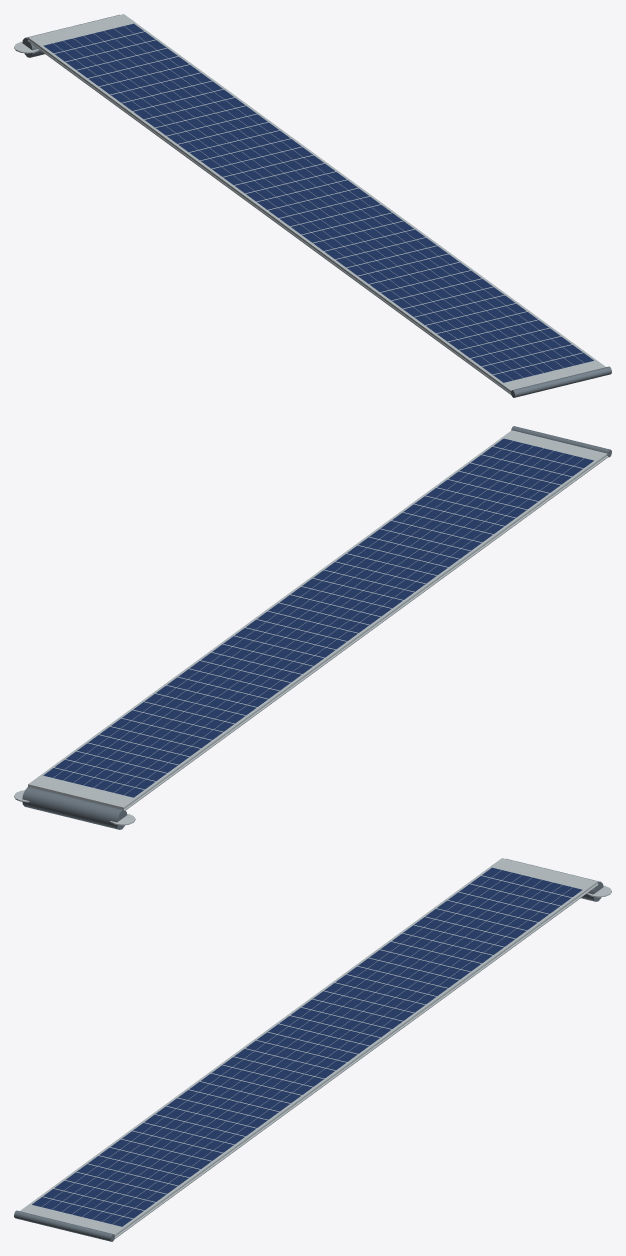
Rendered from dart_rosa_left.glb.
3 renders of one model, top to bottom at view 1: azimuth 30°, elevation 25°; view 2: azimuth 150°, elevation 25°; view 3: azimuth 330°, elevation 25°, orthographic.
Visible parts, largest first — view 1: dart_rosa_ldeploymentblanketcellsmesh_Indigo_solar_cells, dart_rosa_ldeploymentblanketcellsmesh_Satin_aluminum, dart_rosa_ldeploymentblanketmesh_Satin_aluminum, dart_rosa_ldeploymentblanketmesh_Machined_steel; view 2: dart_rosa_ldeploymentblanketcellsmesh_Indigo_solar_cells, dart_rosa_ldeploymentblanketcellsmesh_Satin_aluminum, dart_rosa_ldeploymentrollermesh_Machined_steel, dart_rosa_ldeploymentblanketmesh_Satin_aluminum, dart_rosa_ldeploymentblanketmesh_Machined_steel; view 3: dart_rosa_ldeploymentblanketcellsmesh_Indigo_solar_cells, dart_rosa_ldeploymentblanketcellsmesh_Satin_aluminum, dart_rosa_ldeploymentblanketmesh_Satin_aluminum, dart_rosa_ldeploymentblanketmesh_Machined_steel.
Boxes of the visible parts, x1,y1,x2,y2 form: dart_rosa_ldeploymentblanketcellsmesh_Indigo_solar_cells: (43, 23, 593, 382); dart_rosa_ldeploymentblanketcellsmesh_Satin_aluminum: (28, 14, 605, 392); dart_rosa_ldeploymentblanketmesh_Satin_aluminum: (27, 40, 511, 395); dart_rosa_ldeploymentblanketmesh_Machined_steel: (511, 366, 611, 397); dart_rosa_ldeploymentblanketcellsmesh_Indigo_solar_cells: (43, 438, 593, 797); dart_rosa_ldeploymentblanketcellsmesh_Satin_aluminum: (28, 430, 607, 809); dart_rosa_ldeploymentrollermesh_Machined_steel: (22, 787, 126, 829); dart_rosa_ldeploymentblanketmesh_Satin_aluminum: (28, 456, 607, 811); dart_rosa_ldeploymentblanketmesh_Machined_steel: (511, 426, 611, 457); dart_rosa_ldeploymentblanketcellsmesh_Indigo_solar_cells: (32, 867, 582, 1226); dart_rosa_ldeploymentblanketcellsmesh_Satin_aluminum: (20, 858, 597, 1236); dart_rosa_ldeploymentblanketmesh_Satin_aluminum: (114, 884, 598, 1239); dart_rosa_ldeploymentblanketmesh_Machined_steel: (14, 1210, 114, 1241).
Size of the model in its own units: 1.12 by 0.212 by 8.14.
